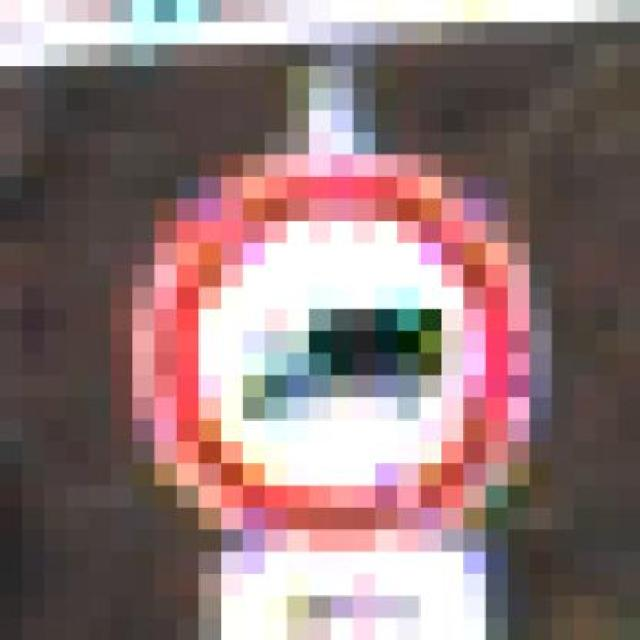Truck traffic is prohibited: (88, 132, 574, 552)
